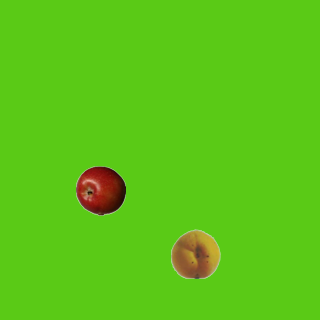Apple Braeburn: (75, 165, 125, 215)
Peach 2: (170, 228, 220, 278)
